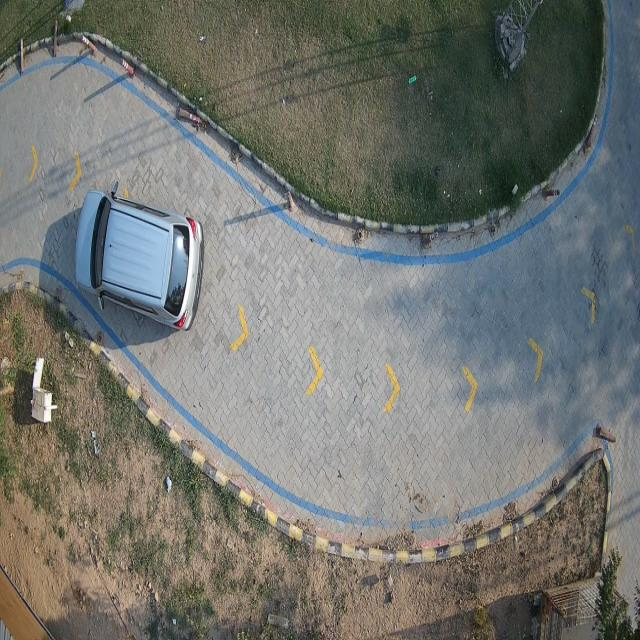car: (74, 190, 205, 334)
